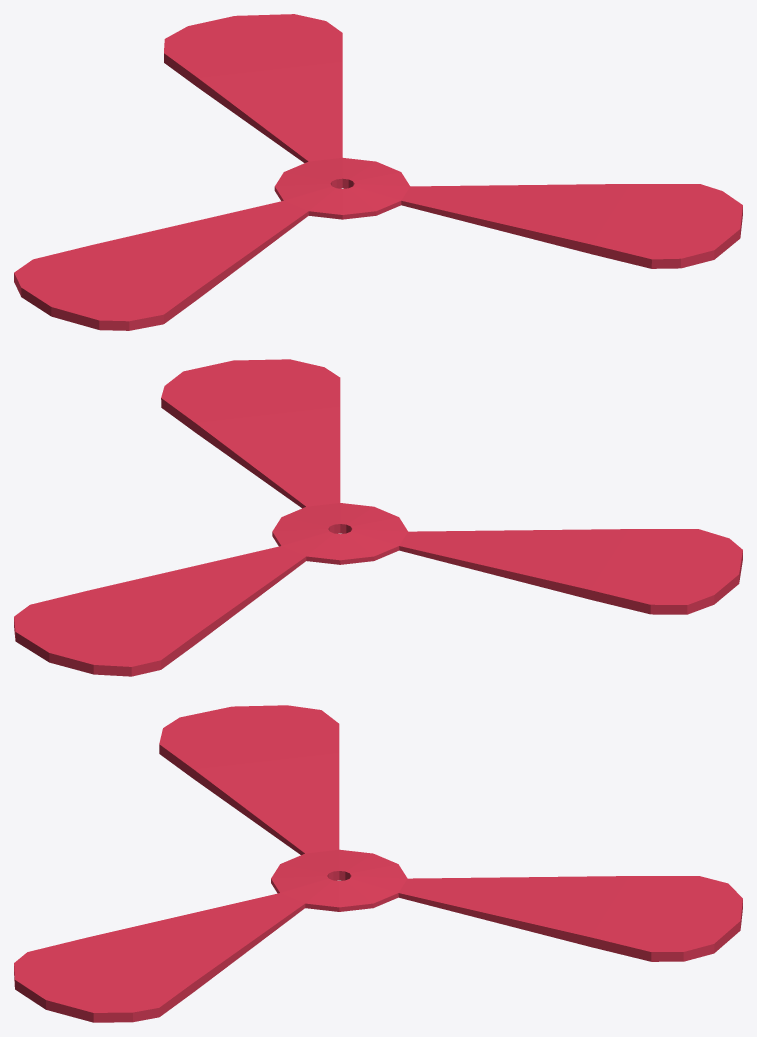
File: propeller.fbx
3 renders of one model, top to bottom at view 1: azimuth 30°, elevation 25°; view 2: azimuth 150°, elevation 25°; view 3: azimuth 270°, elevation 25°, orthographic.
Visible parts, largest first — view 1: Cylinder; view 2: Cylinder; view 3: Cylinder.
Boxes of the visible parts, x1,y1,x2,y2 form: Cylinder: [14, 14, 742, 330]; Cylinder: [14, 359, 742, 676]; Cylinder: [14, 705, 742, 1022].
Bounding box in the file's own units: 271 × 4 × 271.
